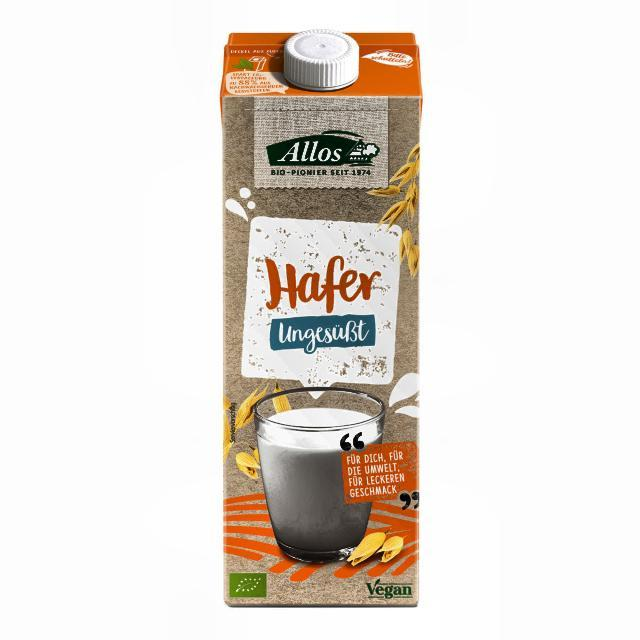cardboard: (220, 31, 422, 608)
